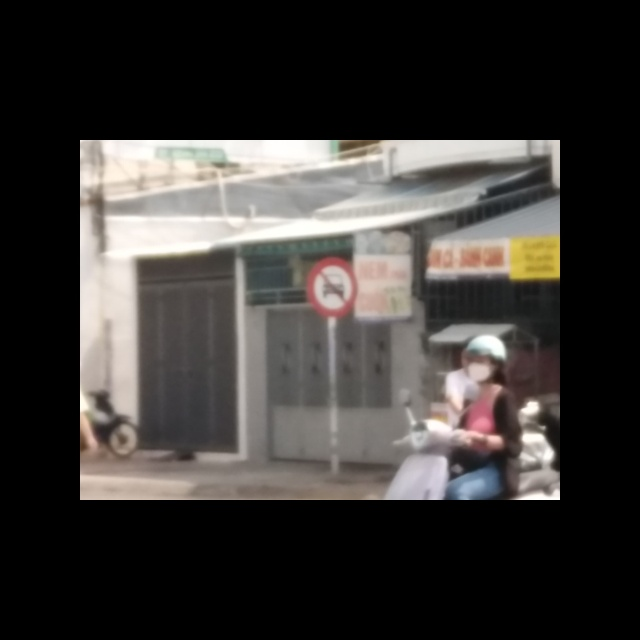Cấm xe ô tô: (305, 257, 360, 317)
